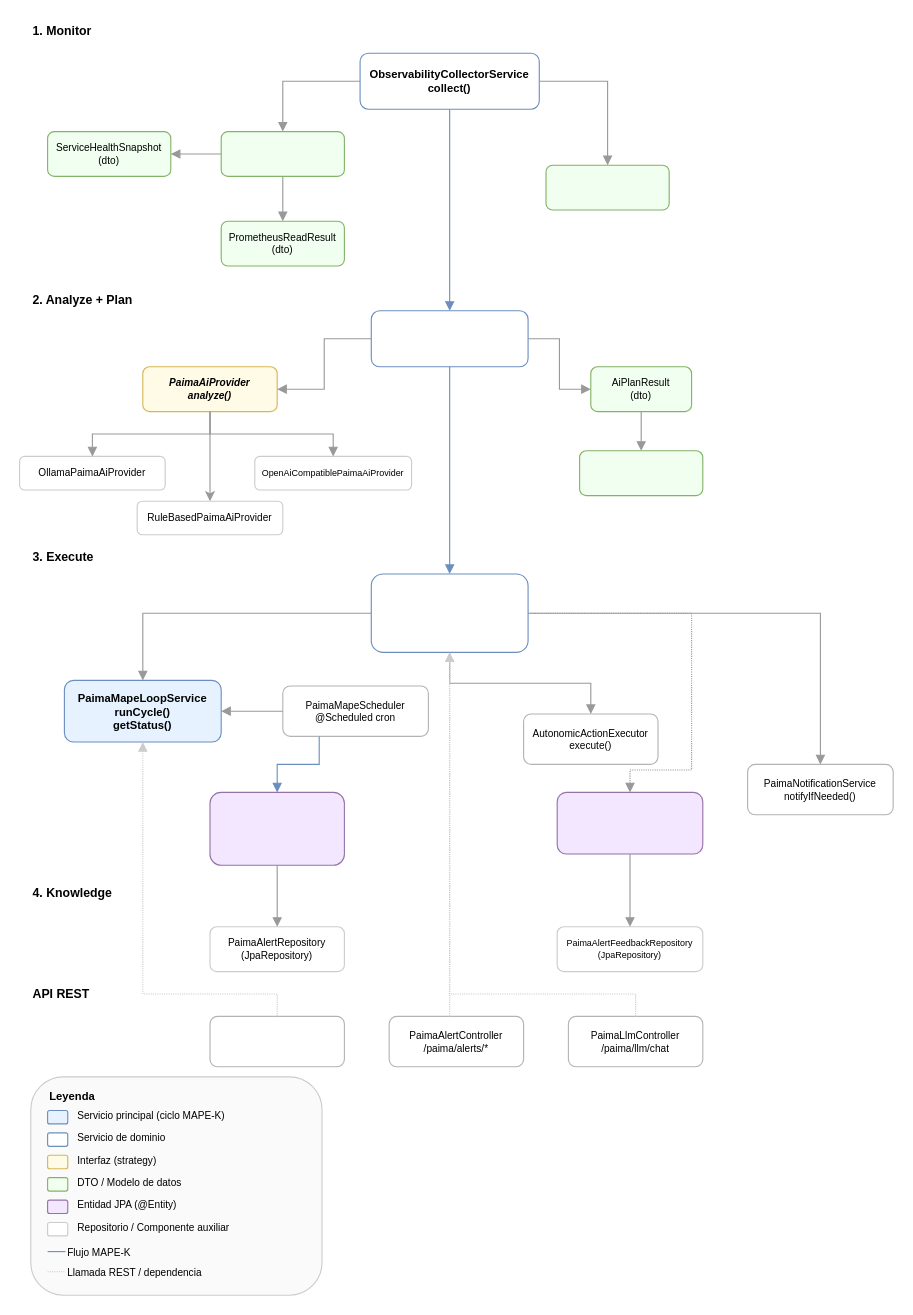
Image size: 913x1315. Some labels were removed from this diagram. The centre of each missing label's shape, as x and y in pixels:
AlertRecommendation (dto): point 640,473
LokiReadResult (dto): point 607,187
MonitoringSnapshot (dto): point 282,153
PaimaAiPlanner analyzeAndPlan(): point 449,338
PaimaAlertEntity @Entity alertKey, priority, status, summary...: point 276,828
PaimaAlertFeedbackEntity @Entity decision, comment...: point 629,822
PaimaAlertService upsertAlert() executeAutonomous() applyDecision(): point 449,612
PaimaMapeController /paima/mape/*: point 276,1041
